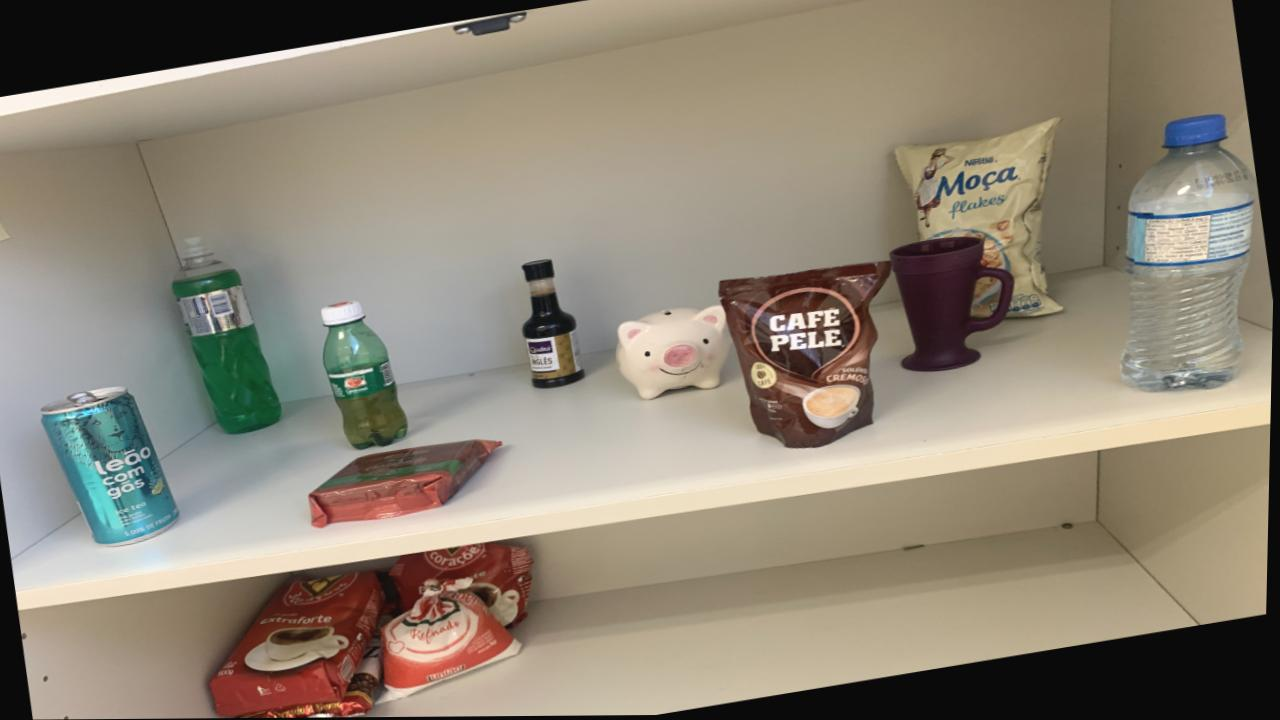Coffee-Pantry_Items: (720, 262, 893, 449)
Detergent-Cleanup_Items: (173, 238, 284, 434)
English_Sauce-Pantry_Items: (523, 260, 586, 389)
Flakes-Snacks: (896, 118, 1063, 318)
Guarana-Drinks: (323, 302, 411, 450)
Guava-Snacks: (311, 440, 502, 527)
Pig_Safe-Miscellaneous: (618, 306, 733, 400)
Tea-Drinks: (43, 386, 183, 547)
Water_Bottle-Drinks: (1123, 117, 1257, 393)
